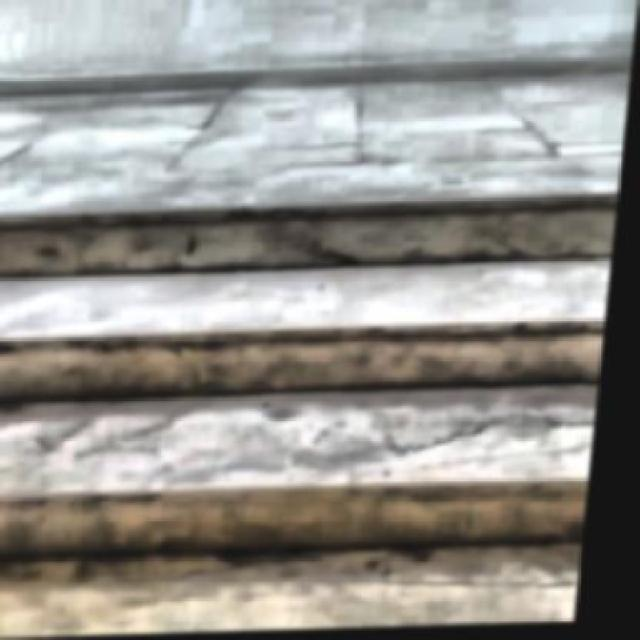stair: (0, 191, 622, 638)
